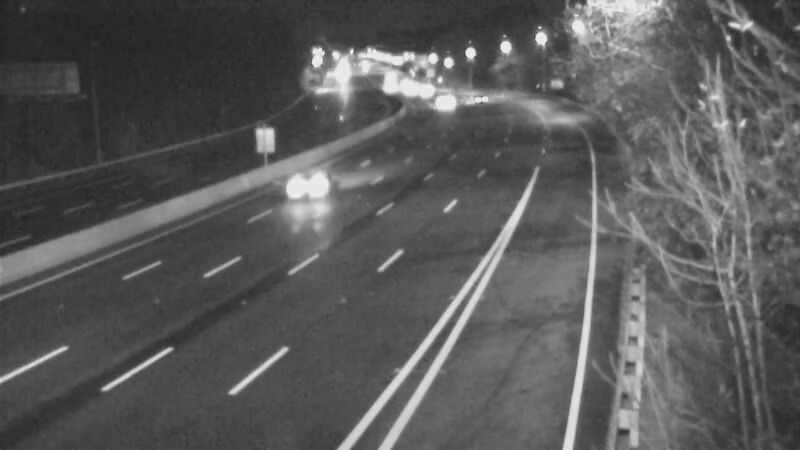vehicle: (271, 147, 351, 227), (452, 70, 502, 120), (419, 80, 469, 130)
